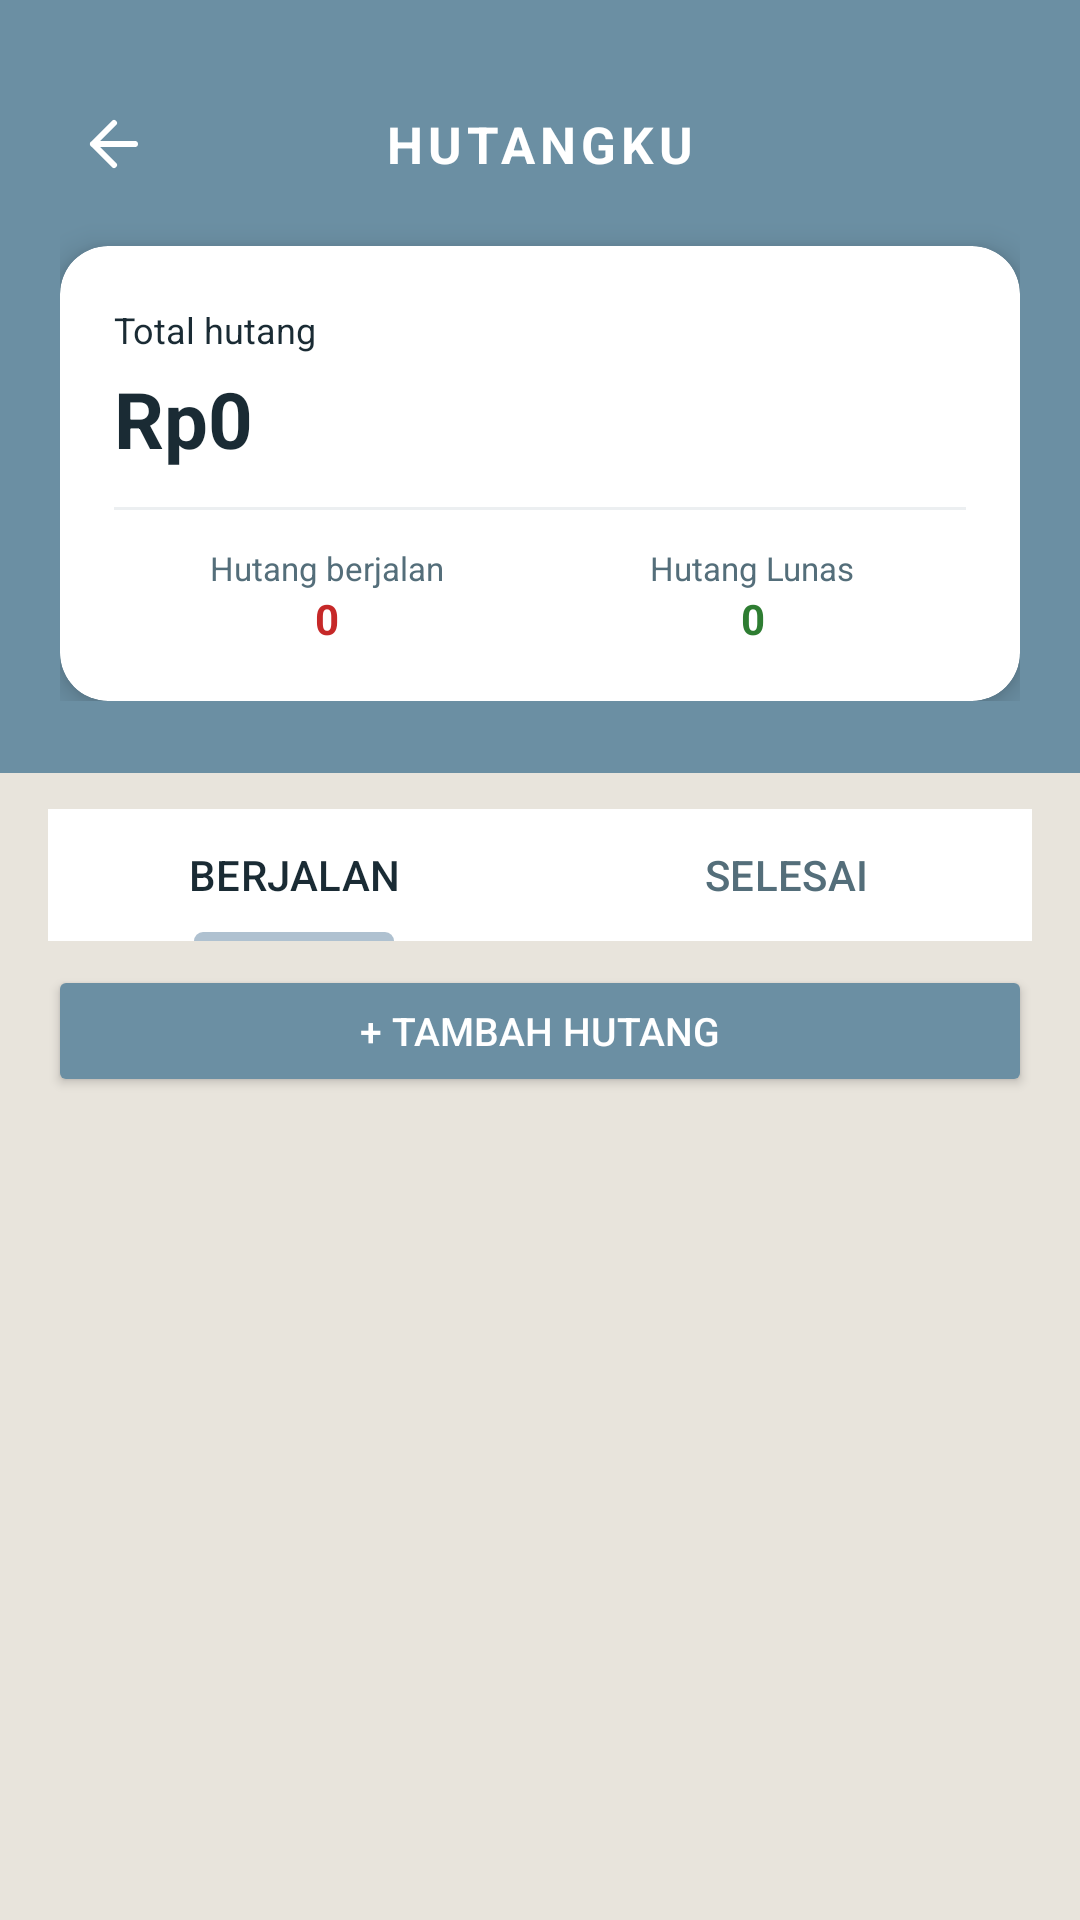

Icon bounding boxes for this 1080x1920 phone screenshot, format (x1, y1, x2, y2):
Kembali: (90, 120, 138, 168)
